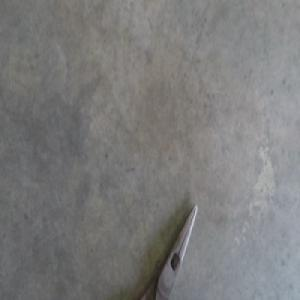Pliers: (139, 203, 197, 299)
